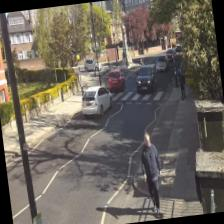person: (136, 131, 166, 215)
